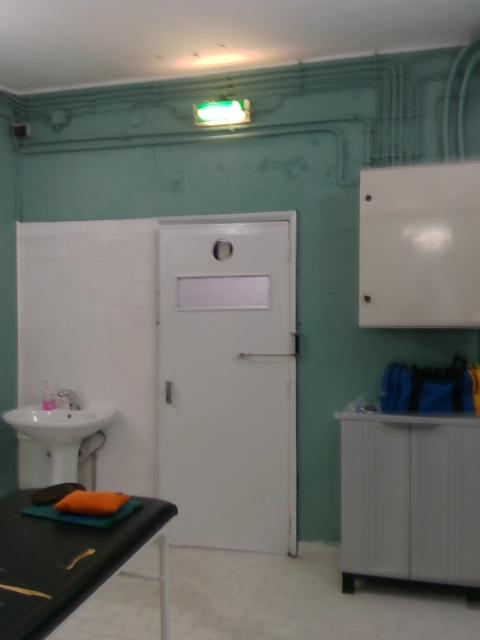door: (166, 219, 288, 552)
